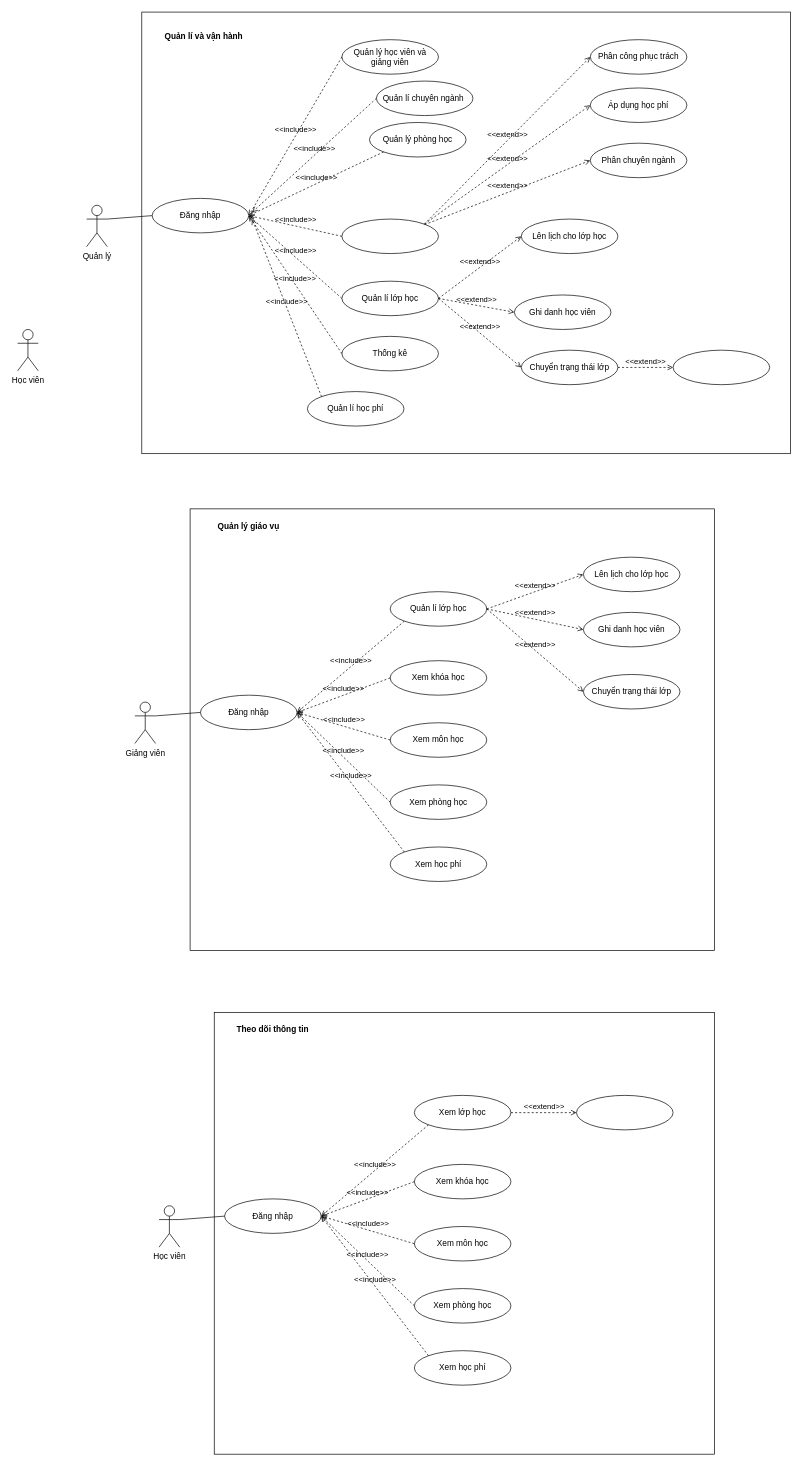
The diagram is 802 pixels wide and 1466 high, and some of its shapes have lost their labels. The centre of each missing label's shape, as x and y in pixels:
"Chuyển về dự thảo" belongs at point (721, 367).
"Quản lí khóa học" belongs at point (389, 236).
"Theo dõi lịch học" belongs at point (624, 1112).
